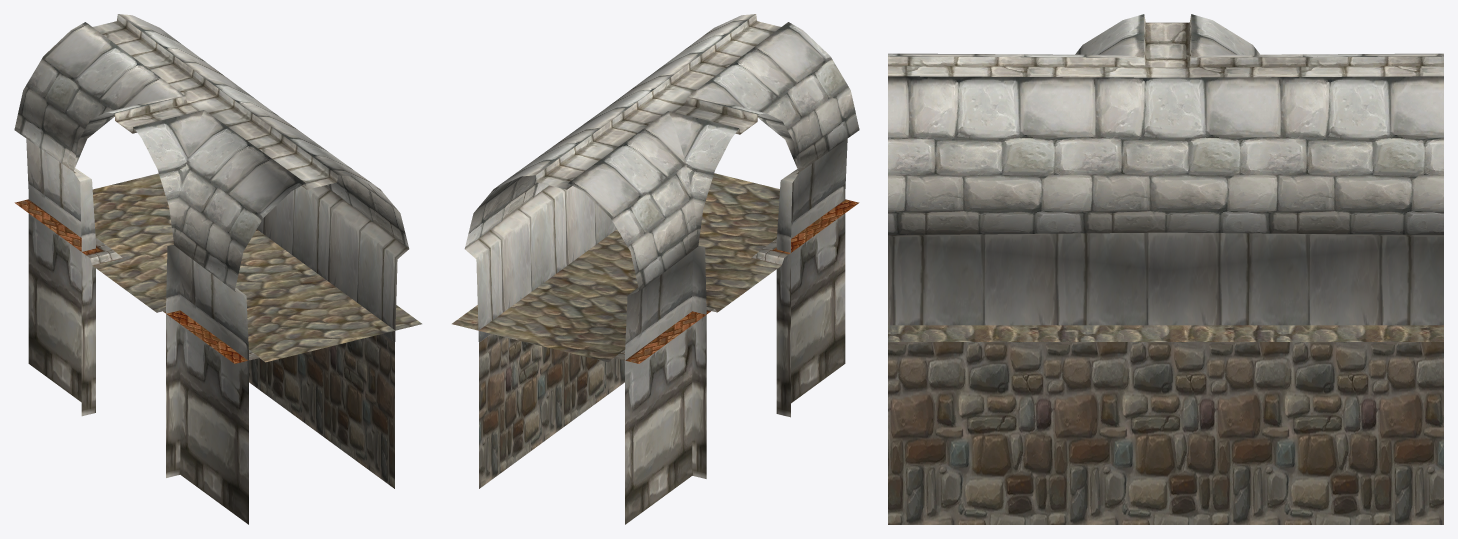
Rendered from stormwind_042.fbx.
3 renders of one model, left to right at view 1: azimuth 30°, elevation 25°; view 2: azimuth 150°, elevation 25°; view 3: azimuth 270°, elevation 25°, orthographic. The views are drawn at different scales.
Parts seen in each view (by area): view 1: stormwind_042_11, stormwind_042_4, stormwind_042_46, stormwind_042_3, stormwind_042_5, stormwind_042_12; view 2: stormwind_042_11, stormwind_042_4, stormwind_042_46, stormwind_042_3, stormwind_042_5, stormwind_042_12; view 3: stormwind_042_3, stormwind_042_4, stormwind_042_11, stormwind_042_5, stormwind_042_46.
Boxes of the visible parts, <box> form: stormwind_042_11: <box>26,139,408,524</box>; stormwind_042_4: <box>14,14,409,290</box>; stormwind_042_46: <box>92,173,421,362</box>; stormwind_042_3: <box>249,334,394,488</box>; stormwind_042_5: <box>93,14,337,189</box>; stormwind_042_12: <box>14,199,263,363</box>; stormwind_042_11: <box>465,139,847,524</box>; stormwind_042_4: <box>464,14,859,290</box>; stormwind_042_46: <box>452,173,780,362</box>; stormwind_042_3: <box>479,334,624,488</box>; stormwind_042_5: <box>536,14,780,189</box>; stormwind_042_12: <box>610,199,859,363</box>; stormwind_042_3: <box>888,342,1443,524</box>; stormwind_042_4: <box>888,14,1443,234</box>; stormwind_042_11: <box>888,232,1443,325</box>; stormwind_042_5: <box>888,14,1443,77</box>; stormwind_042_46: <box>888,325,1443,341</box>.
Bounding box in the file's own units: 10.84 × 18.07 × 22.01.
